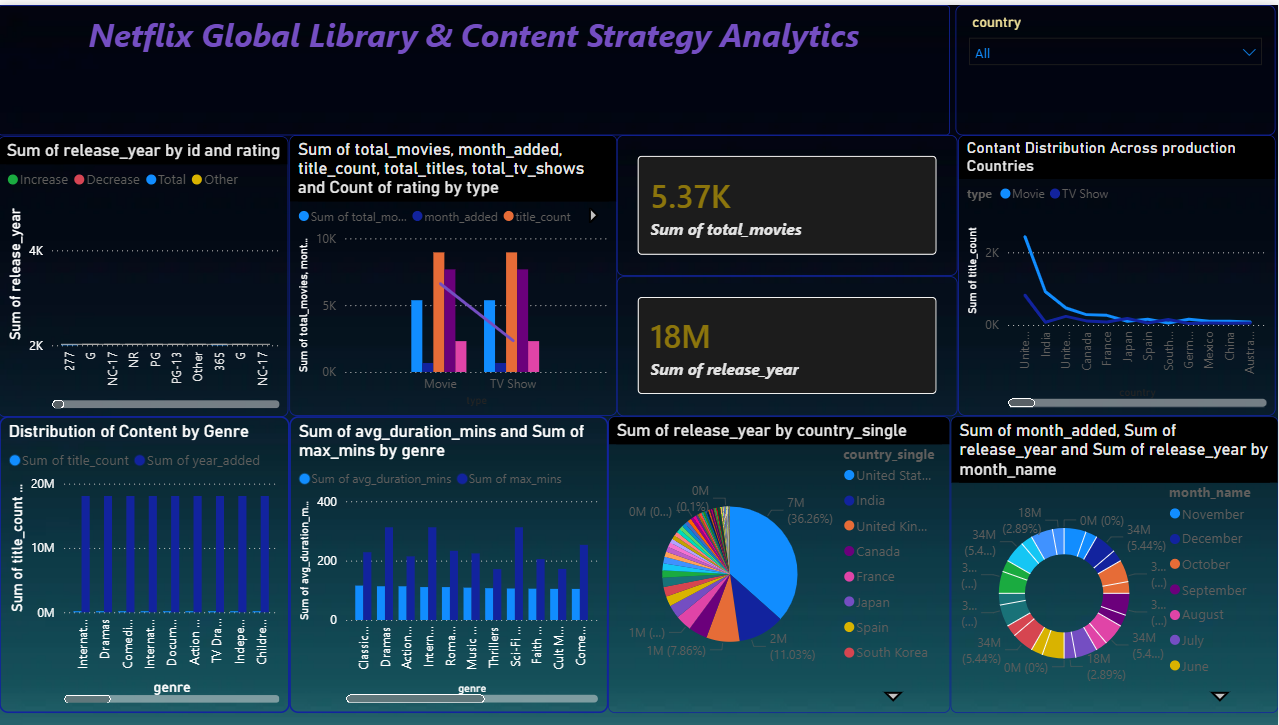

What the dashboard file says about the page in this screenshot:
{"tool":"powerbi","page":{"name":"Page 1","canvas":[1280,720],"ordinal":0},"visuals":[{"type":"clusteredColumnChart","title":"Distribution of Content by Genre","fields":{"Category":["netflix_db v_genre_counts.genre"],"Y":["Sum(netflix_db v_genre_counts.title_count)","Sum(netflix_db netflix_countries.year_added)"]},"box":[1.2,411,290.8,296.9],"z":0},{"type":"pieChart","fields":{"Category":["netflix_db netflix_countries.country_single"],"Y":["Sum(netflix_db netflix_countries.release_year)"]},"box":[609.8,411,342.3,296.9],"z":1000},{"type":"donutChart","fields":{"Y":["Sum(netflix_db v_monthly_additions.month_added)","Sum(netflix_db netflix_genres.release_year)","Sum(netflix_db netflix_countries.release_year)"],"Category":["netflix_db v_monthly_additions.month_name"]},"box":[952.2,411,327.6,296.9],"z":2000},{"type":"lineClusteredColumnComboChart","fields":{"Y":["Sum(netflix_db v_movie_duration.avg_duration_mins)","Sum(netflix_db v_movie_duration.max_mins)"],"Category":["netflix_db v_movie_duration.genre"]},"box":[290.8,411,319,296.9],"z":3000},{"type":"textbox","box":[0,0,952.2,130.1],"z":4000},{"type":"lineClusteredColumnComboChart","fields":{"Y":["Sum(netflix_db v_kpi_summary.total_movies)","Sum(netflix_db v_monthly_additions.month_added)","Sum(netflix_db v_country_counts.title_count)","Sum(netflix_db v_kpi_summary.total_titles)","Sum(netflix_db v_kpi_summary.total_tv_shows)"],"Category":["netflix_db netflix_countries.type"],"Y2":["CountNonNull(netflix_db netflix_countries.rating)"]},"box":[290.8,130.1,327.6,281],"z":5000},{"type":"cardVisual","fields":{"Data":["Sum(netflix_db v_kpi_summary.total_movies)"]},"box":[618.4,130.1,341.1,141.1],"z":6000},{"type":"cardVisual","fields":{"Data":["Sum(netflix_db netflix_countries.release_year)"]},"box":[618.4,271.2,341.1,139.9],"z":7000},{"type":"slicer","fields":{"Values":["netflix_db netflix_titles.country"]},"box":[957.1,0,320.2,130.1],"z":8000},{"type":"waterfallChart","fields":{"Category":["netflix_db netflix_countries.id"],"Breakdown":["netflix_db netflix_countries.rating"],"Y":["Sum(netflix_db netflix_countries.release_year)"]},"box":[0,131.3,290.8,281],"z":9000},{"type":"lineChart","title":"Contant Distribution Across production Countries","fields":{"Category":["netflix_db v_country_counts.country"],"Series":["netflix_db v_country_counts.type"],"Y":["Sum(netflix_db v_country_counts.title_count)"]},"box":[959.5,130.1,317.8,281],"z":10000}]}

Visuals, with their boxes in screenshot pixels (x1, y1, x2, y2), scaled from the page's 1280x720 canvas onto the 1279x725 screenshot:
"Distribution of Content by Genre" clusteredColumnChart: [1, 414, 292, 713]
pieChart - netflix_db netflix_countries.country_single x Sum(netflix_db netflix_countries.release_year): [609, 414, 951, 713]
donutChart - Sum(netflix_db v_monthly_additions.month_added) x Sum(netflix_db netflix_genres.release_year): [951, 414, 1278, 713]
lineClusteredColumnComboChart - Sum(netflix_db v_movie_duration.avg_duration_mins) x Sum(netflix_db v_movie_duration.max_mins): [291, 414, 609, 713]
textbox: [0, 0, 951, 131]
lineClusteredColumnComboChart - Sum(netflix_db v_kpi_summary.total_movies) x Sum(netflix_db v_monthly_additions.month_added): [291, 131, 618, 414]
cardVisual - Sum(netflix_db v_kpi_summary.total_movies): [618, 131, 959, 273]
cardVisual - Sum(netflix_db netflix_countries.release_year): [618, 273, 959, 414]
slicer - netflix_db netflix_titles.country: [956, 0, 1276, 131]
waterfallChart - netflix_db netflix_countries.id x netflix_db netflix_countries.rating: [0, 132, 291, 415]
"Contant Distribution Across production Countries" lineChart: [959, 131, 1276, 414]
